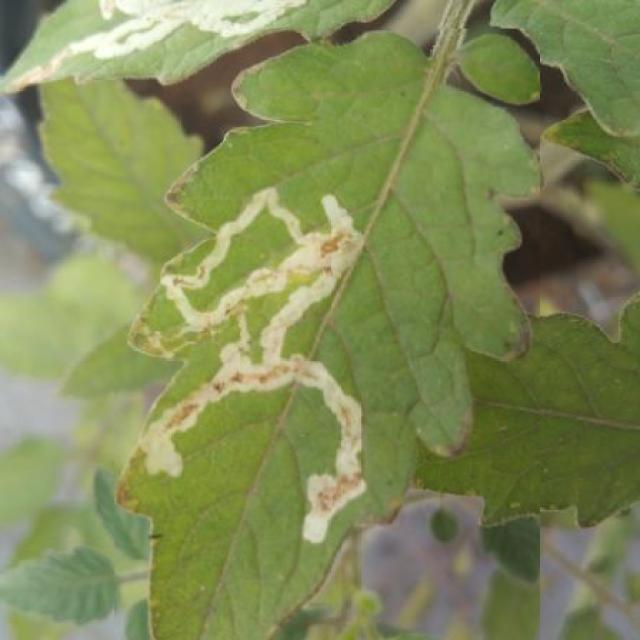Leaf Miner: (113, 28, 540, 640)
